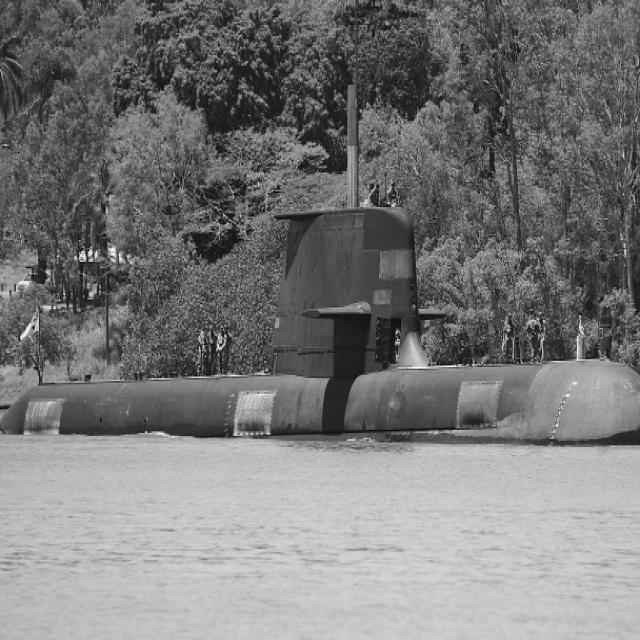submarine: (1, 205, 640, 442)
